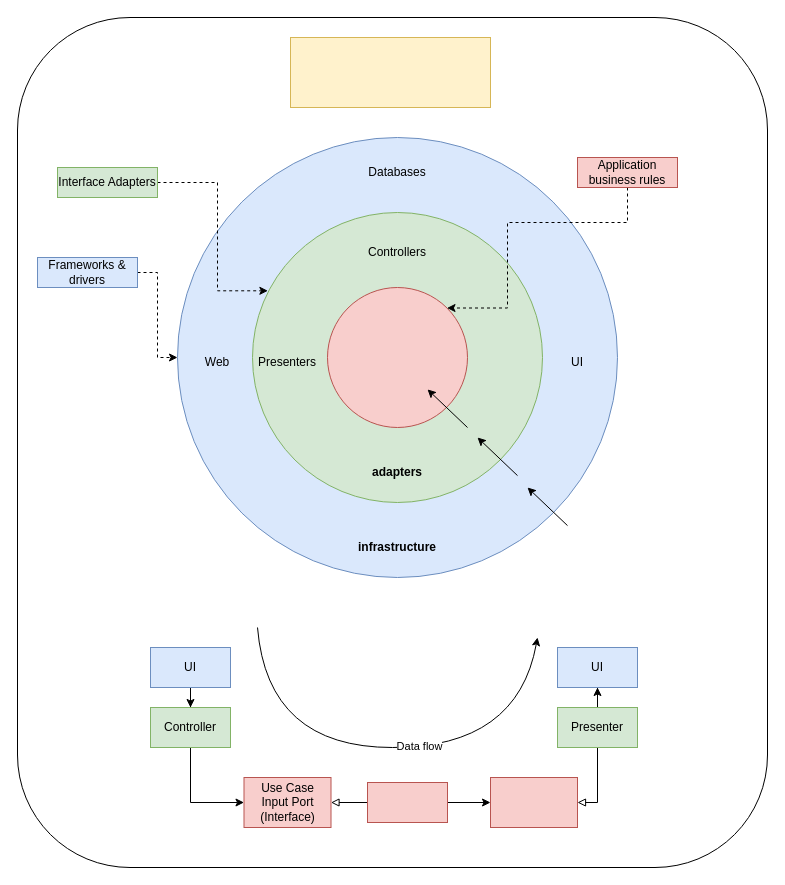
The diagram is 785 pixels wide and 885 high, and some of its shapes have lost their labels. The shapes that lost their labels are listed below. From the top down, each one's centre as x and y in pixels, then its label:
At pixel 390 72: "Clean Architecture - Hexagonal Architecture".
At pixel 397 357: "use-cases/entities".
At pixel 407 802: "Use Case Interactor".
At pixel 534 802: "Use Case Output Port (Interface)".
